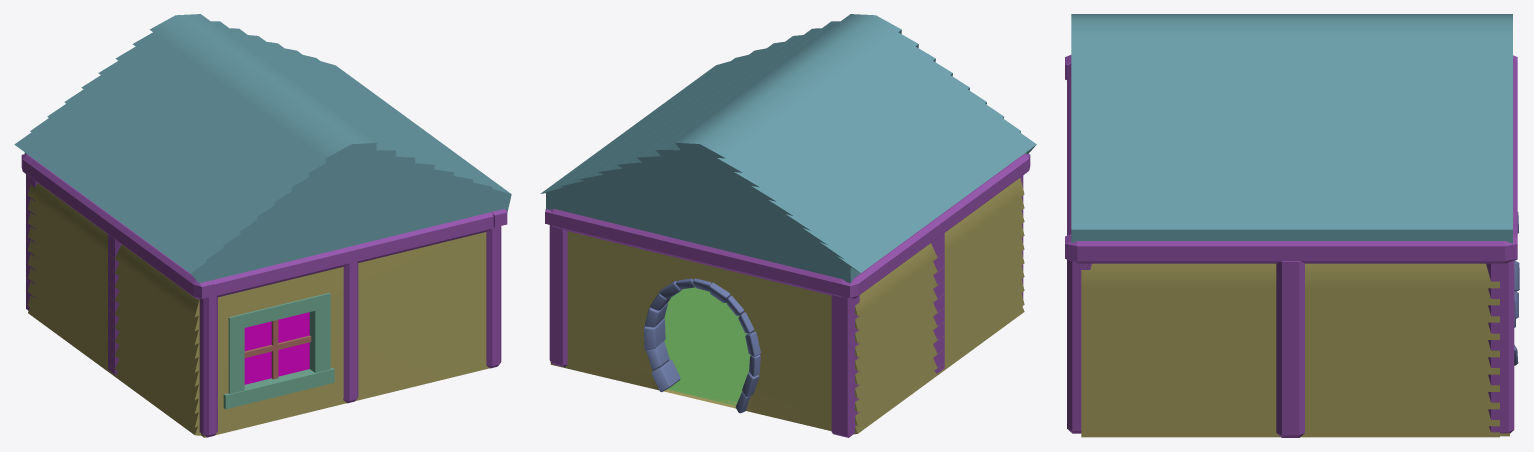
The model's file is AlchemistCabin.fbx.
The picture shows the model from 3 angles, left to right: view 1: azimuth 30°, elevation 25°; view 2: azimuth 150°, elevation 25°; view 3: azimuth 270°, elevation 25°; orthographic projection. The views are drawn at different scales.
Visible parts, largest first — view 1: Roof, AllWalls, AllSupports, WindowSill1, WindowGlass, WindowCross; view 2: Roof, AllWalls, AllSupports, Floor, Alchemist_Cabin:DoorFrame; view 3: Roof, AllWalls, AllSupports, Alchemist_Cabin:DoorFrame.
Boxes of the visible parts, x1,y1,x2,y2 form: Roof: (14,14,511,283); AllWalls: (28,183,489,437); AllSupports: (21,154,507,437); WindowSill1: (223,292,334,409); WindowGlass: (244,312,309,384); WindowCross: (244,320,311,379); Roof: (540,14,1036,282); AllWalls: (550,178,1024,434); AllSupports: (545,153,1030,437); Floor: (664,287,750,405); Alchemist_Cabin:DoorFrame: (643,278,760,413); Roof: (1071,14,1512,243); AllWalls: (1081,263,1509,437); AllSupports: (1065,55,1517,437); Alchemist_Cabin:DoorFrame: (1514,212,1519,365).
Bounding box in the file's own units: 534 × 412 × 521.
